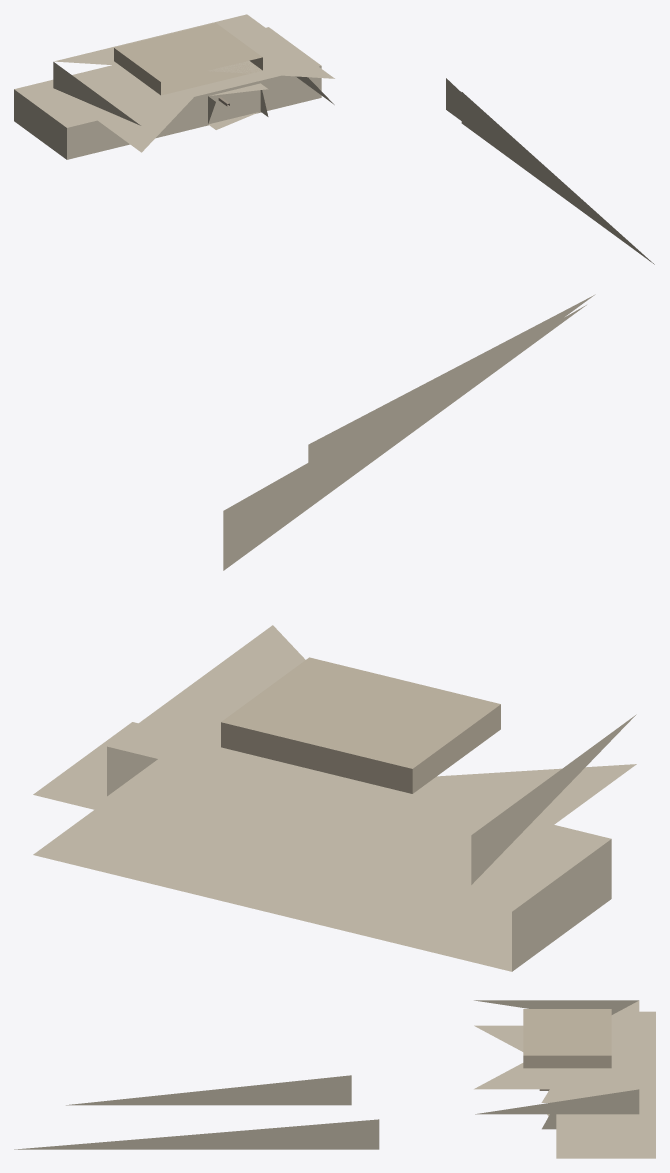
File: chavin_plaza_lod1.glb
The picture shows the model from 3 angles, top to bottom: view 1: azimuth 30°, elevation 25°; view 2: azimuth 150°, elevation 25°; view 3: azimuth 270°, elevation 25°; orthographic projection. The views are drawn at different scales.
Parts seen in each view (by area): view 1: chavin_plaza; view 2: chavin_plaza; view 3: chavin_plaza.
Part boxes in pixels (bbox=[...]): chavin_plaza: bbox=[14, 14, 654, 264]; chavin_plaza: bbox=[33, 294, 636, 971]; chavin_plaza: bbox=[14, 1000, 655, 1158].
Size of the model in its own units: 59 by 18 by 116.
